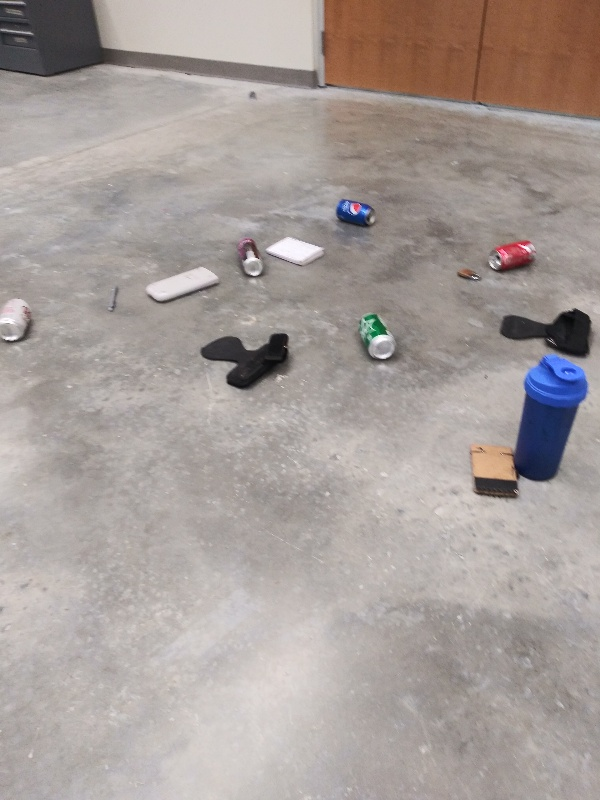can: (355, 310, 400, 363), (484, 237, 542, 273), (1, 294, 37, 347), (332, 195, 380, 230), (233, 234, 267, 283)
